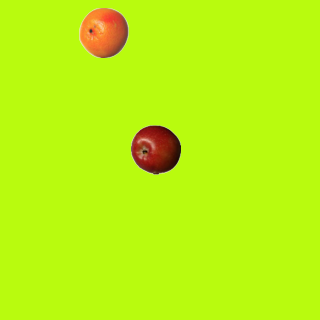Apple Braeburn: (130, 124, 180, 174)
Grapefruit Pink: (78, 7, 128, 57)
